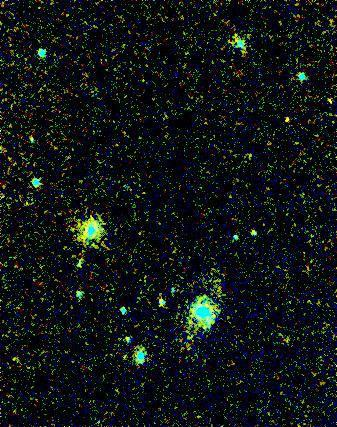star: (269, 104, 299, 134)
